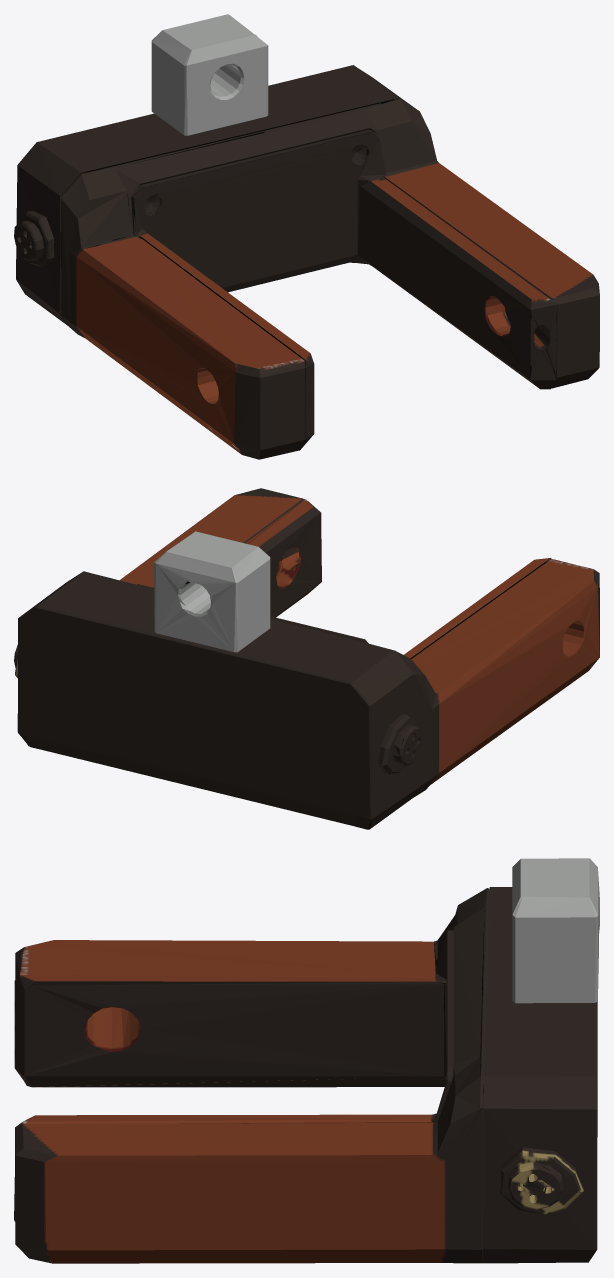
Rendered from 23-free-fall-photogate.fbx.
3 renders of one model, top to bottom at view 1: azimuth 30°, elevation 25°; view 2: azimuth 150°, elevation 25°; view 3: azimuth 270°, elevation 25°, orthographic. The views are drawn at different scales.
Parts seen in each view (by area): view 1: geometry_0; view 2: geometry_0; view 3: geometry_0.
Part boxes in pixels (x1,y1,x2,y2): geometry_0: (14, 14, 599, 459); geometry_0: (14, 488, 599, 829); geometry_0: (14, 858, 599, 1263).
Bounding box in the file's own units: 0.1323 × 0.0745 × 0.14.
5 materials, 5 textured.
